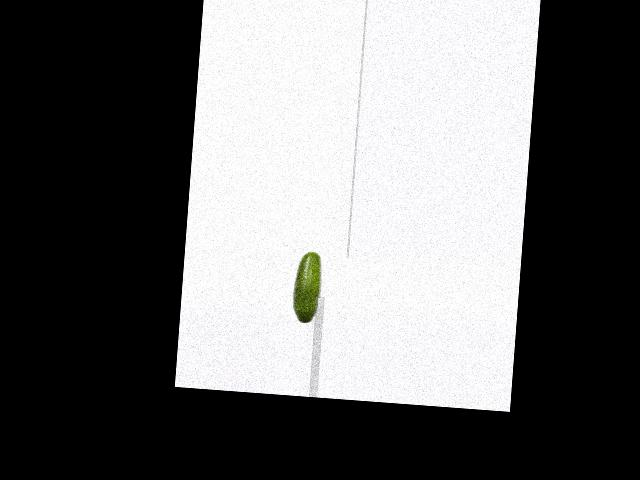cucumber: (290, 250, 324, 325)
